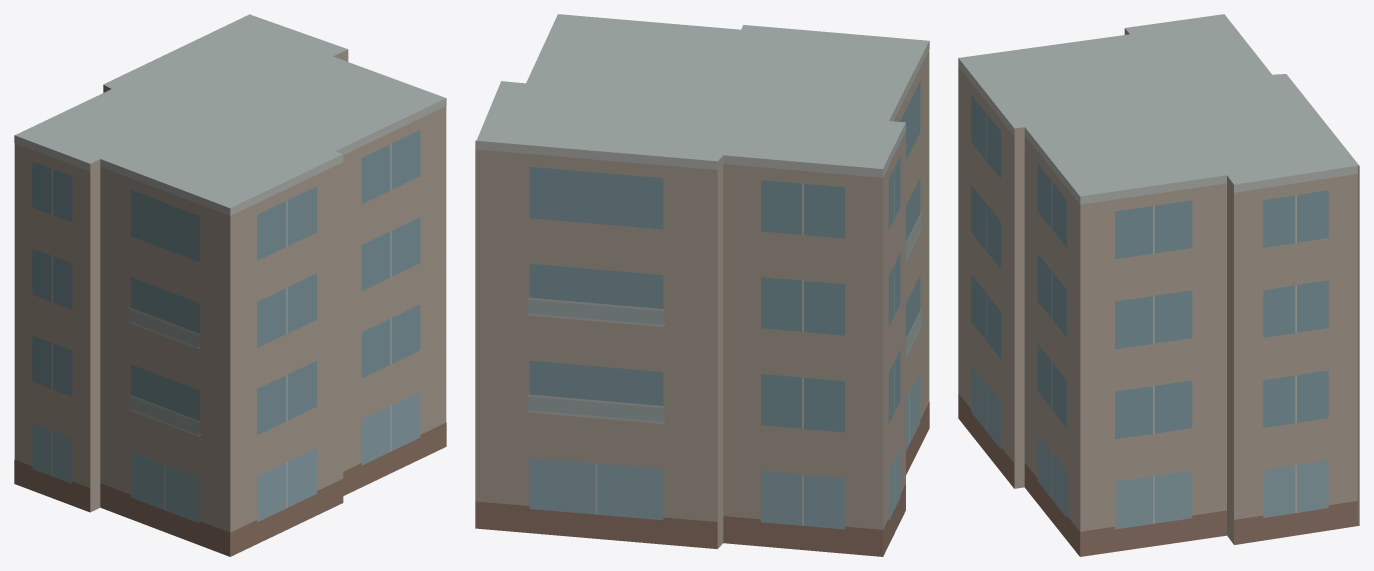
The model's file is survey-upis-32963970.glb.
The picture shows the model from 3 angles, left to right: view 1: azimuth 30°, elevation 25°; view 2: azimuth 150°, elevation 25°; view 3: azimuth 270°, elevation 25°; orthographic projection. The views are drawn at different scales.
Parts seen in each view (by area): view 1: survey-upis-32963970.tmp; view 2: survey-upis-32963970.tmp; view 3: survey-upis-32963970.tmp.
Boxes of the visible parts, x1,y1,x2,y2 form: survey-upis-32963970.tmp: (14,14,446,556); survey-upis-32963970.tmp: (475,14,929,556); survey-upis-32963970.tmp: (958,14,1359,556).
Bounding box in the file's own units: 11.86 × 10.9 × 11.01.
